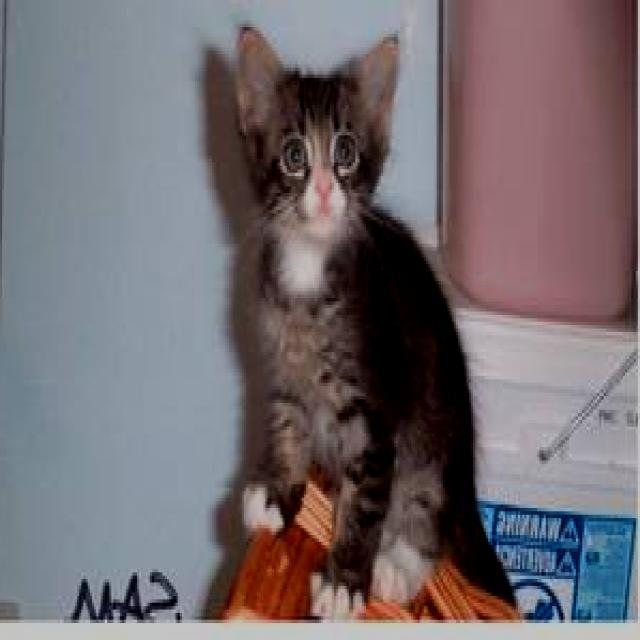Kucing: (188, 0, 544, 628)
